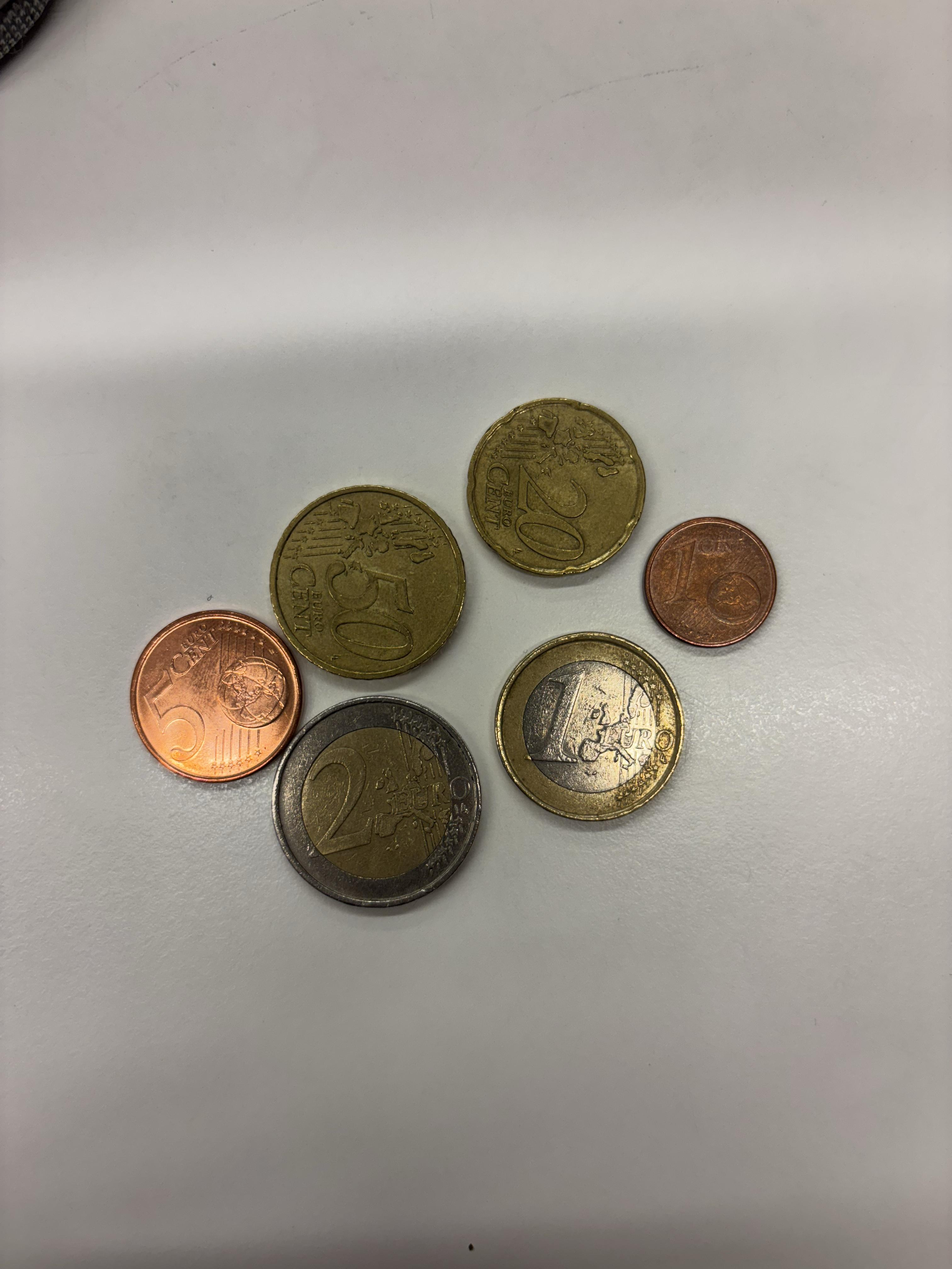1 cent: (643, 517, 777, 649)
1 euro: (495, 632, 685, 822)
2 euro: (276, 696, 483, 911), (460, 391, 657, 584)
5 cent: (130, 610, 303, 783)
50 cent: (258, 485, 469, 688)
